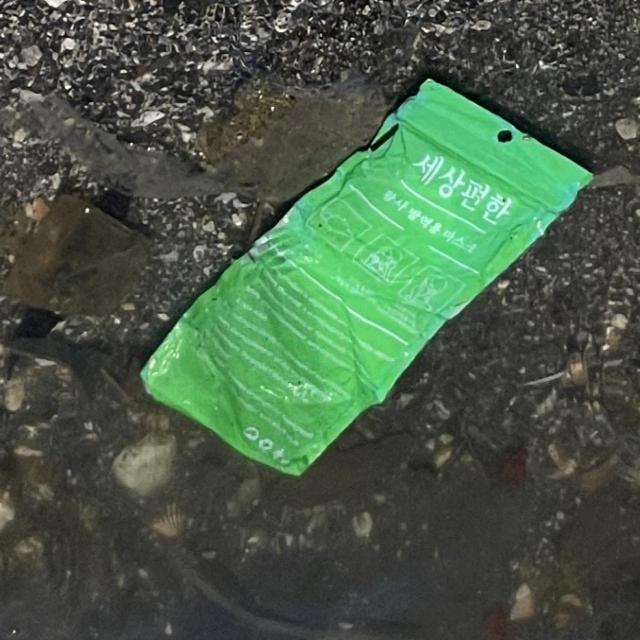plastic_waste: (138, 80, 591, 478)
